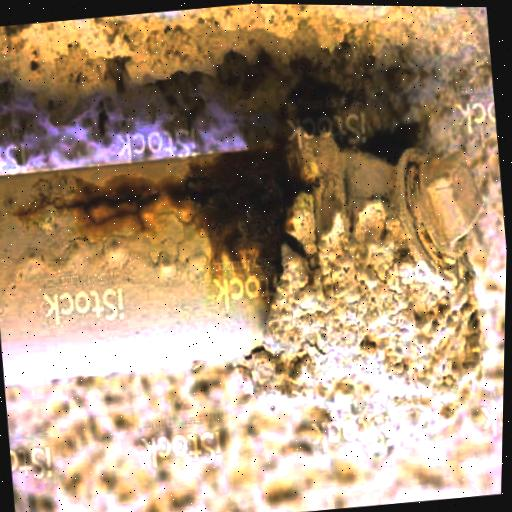corrosion: (3, 144, 303, 302), (279, 43, 428, 173), (146, 41, 287, 154)
